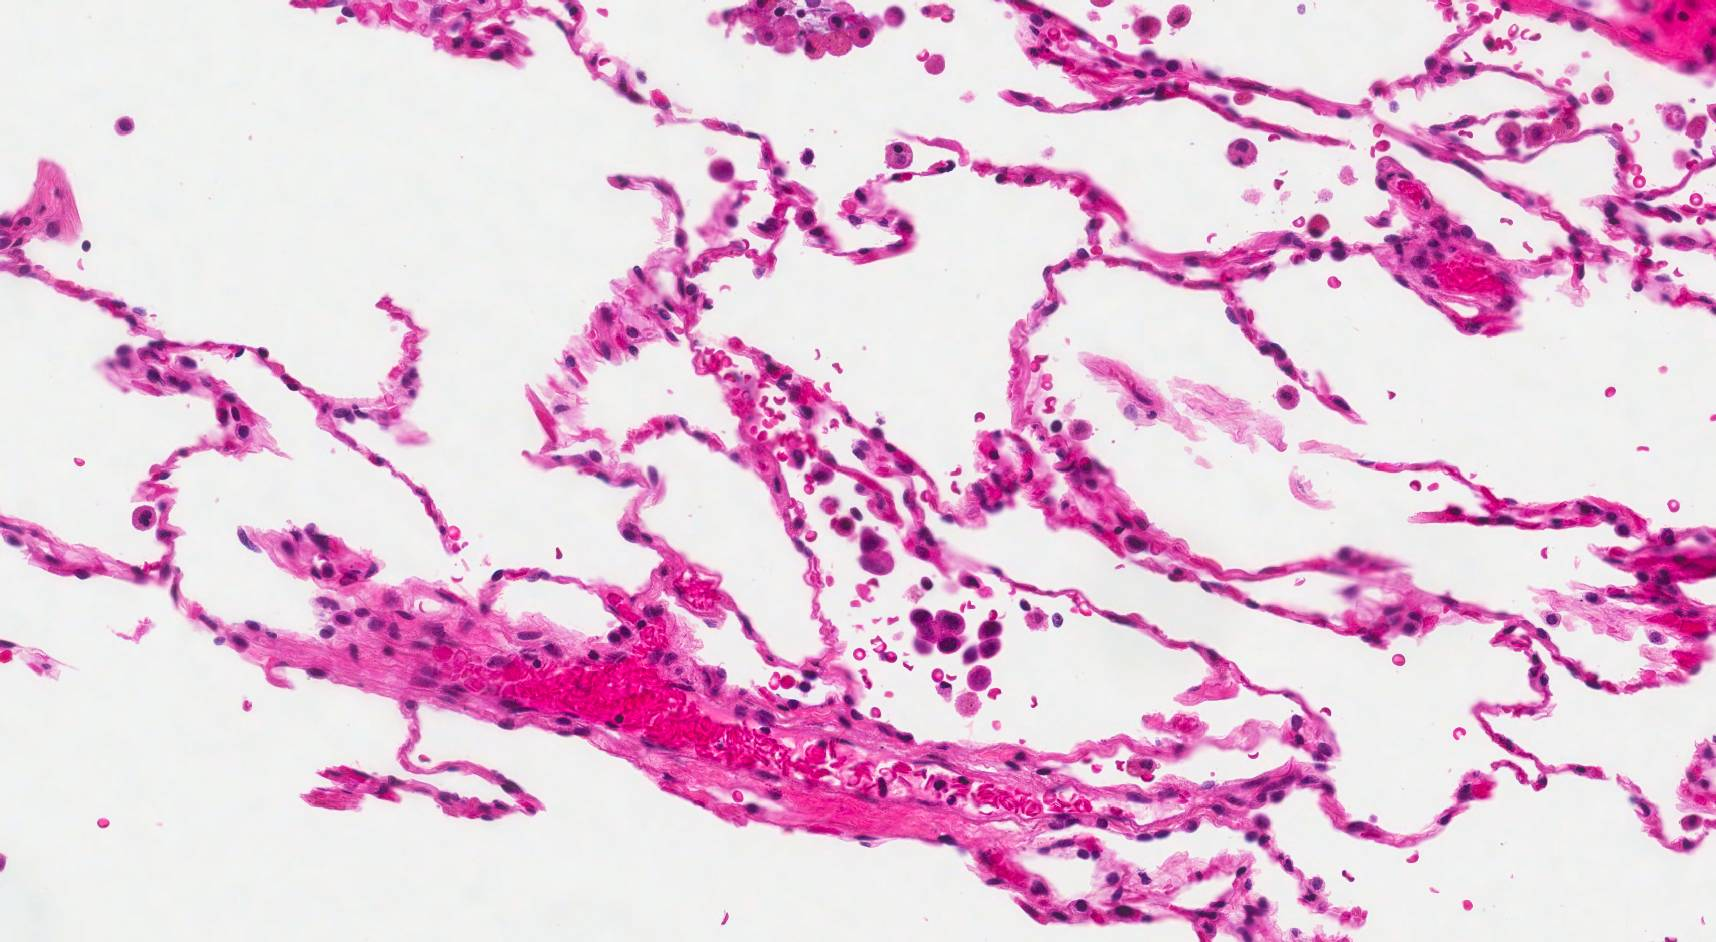stas: (909, 603, 1007, 668), (858, 527, 895, 578)
